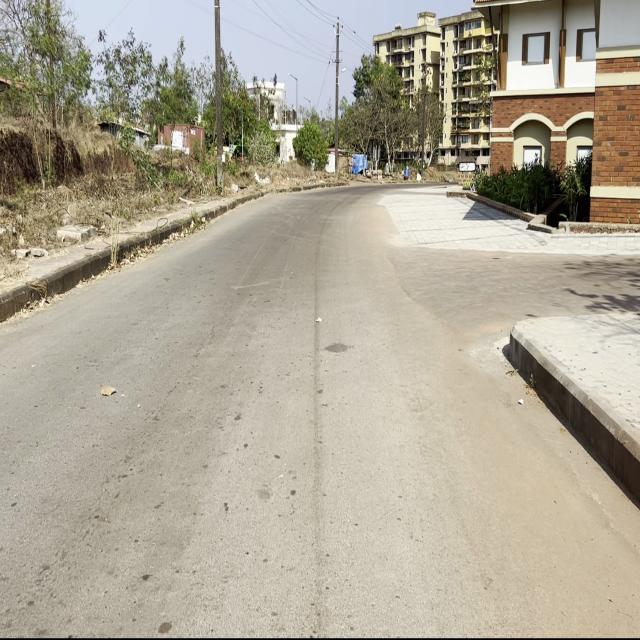Road: (1, 187, 640, 637)
